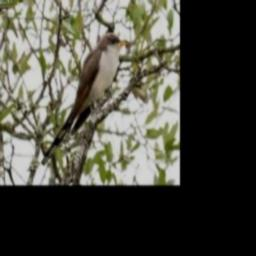Cuckoo: (41, 32, 126, 167)
